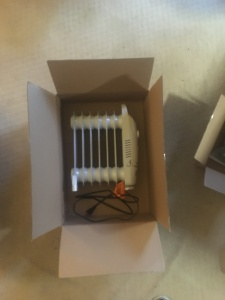innerbox: (58, 95, 155, 224)
outerbox: (32, 60, 170, 275)
product: (70, 110, 142, 199)
